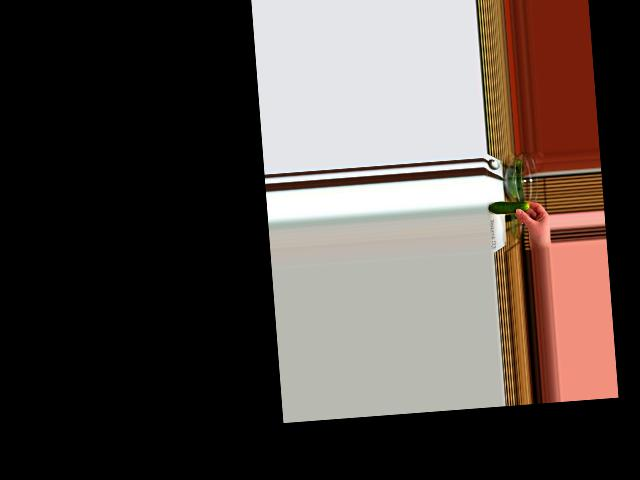cucumber: (488, 199, 529, 215)
